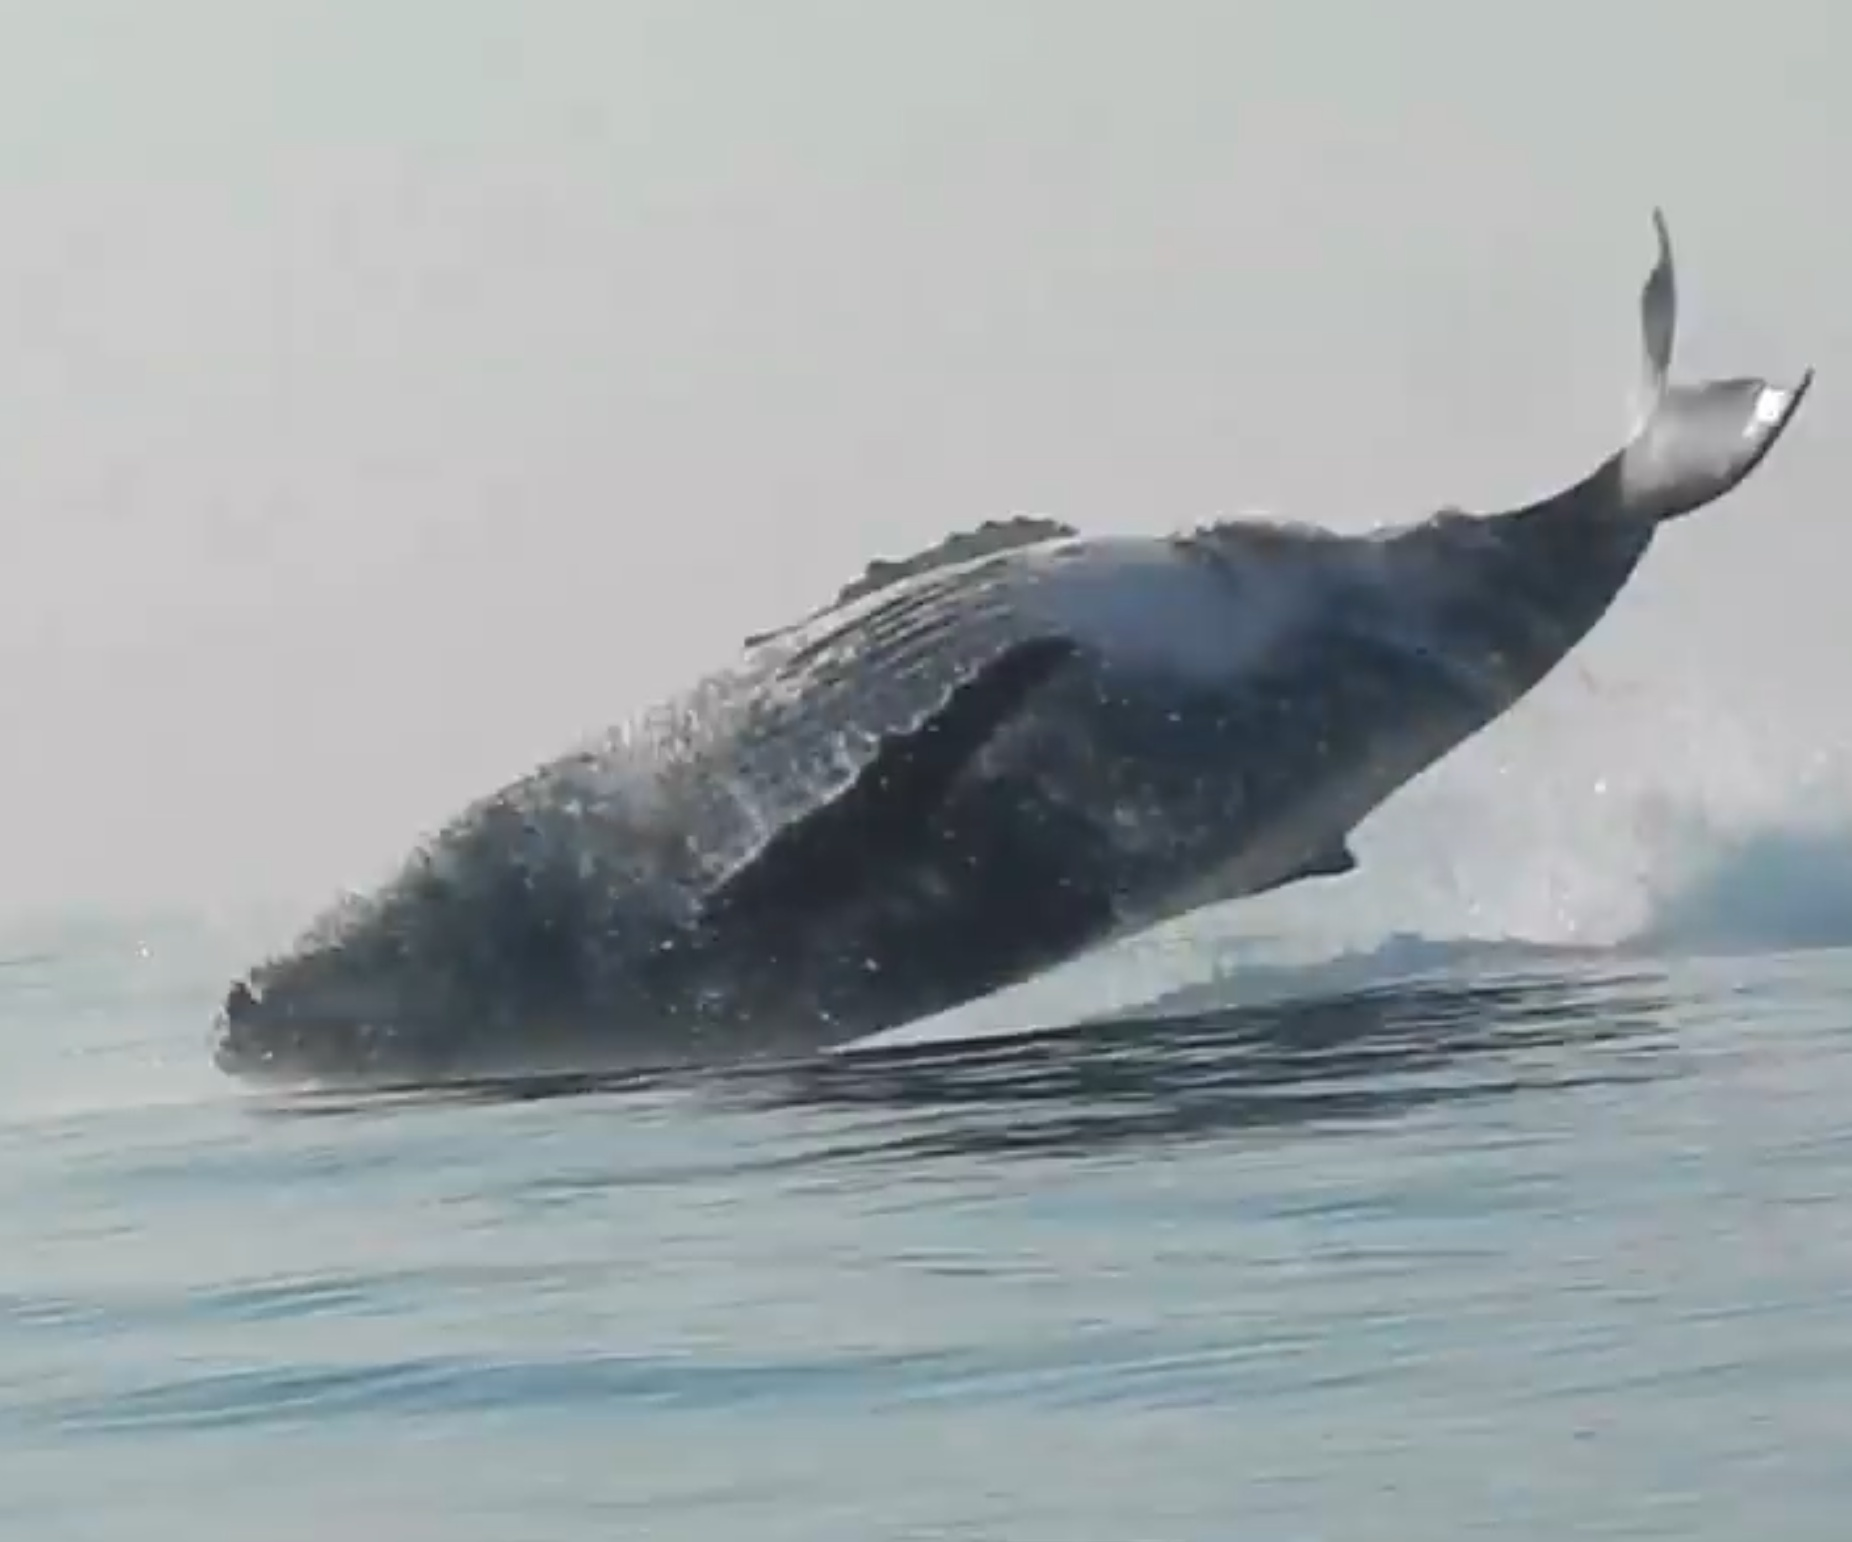humpback: (214, 372, 1817, 1080)
